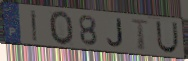8: (78, 14, 100, 47)
I: (30, 9, 39, 43)
J: (106, 18, 125, 49)
O: (49, 10, 76, 47)
T: (130, 18, 151, 52)
U: (155, 20, 180, 55)
